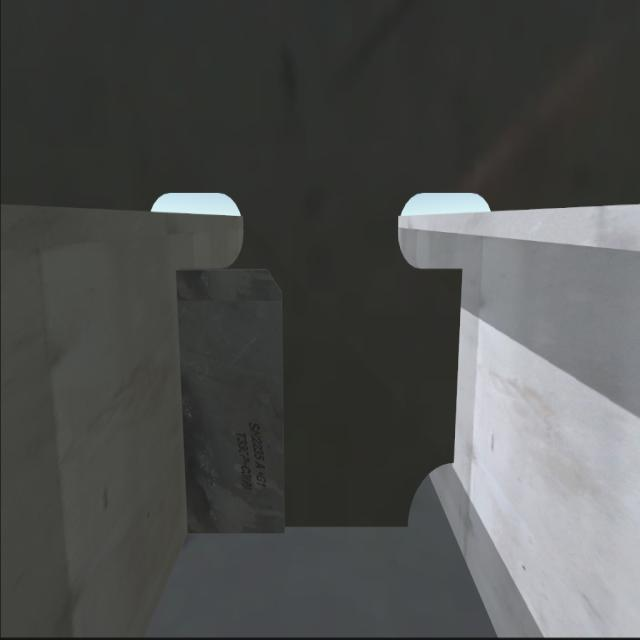fillet_hole: (406, 461, 454, 527)
fillet_yong_jeop_jang: (188, 520, 414, 540)
longi_yong_jeop_jang: (170, 263, 198, 537), (450, 258, 468, 465)
plate_CP03: (177, 269, 287, 535)
